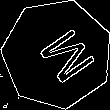M_SW: (23, 21, 91, 87)
